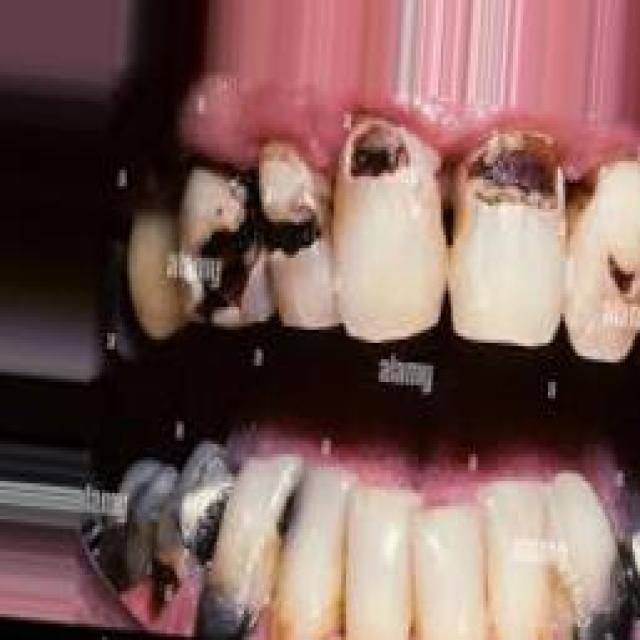caries: (454, 110, 576, 246), (175, 167, 270, 327), (326, 98, 432, 214), (253, 150, 333, 276), (253, 456, 324, 554), (588, 237, 640, 307)
